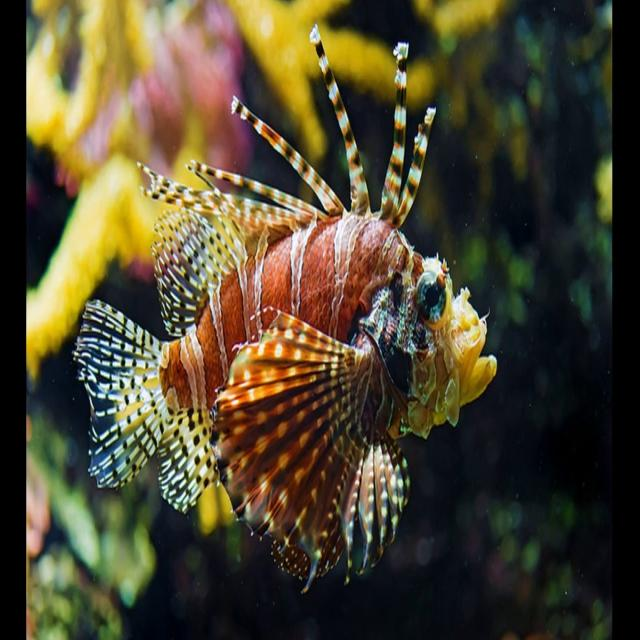Aslan Baligi: (71, 22, 499, 596)
